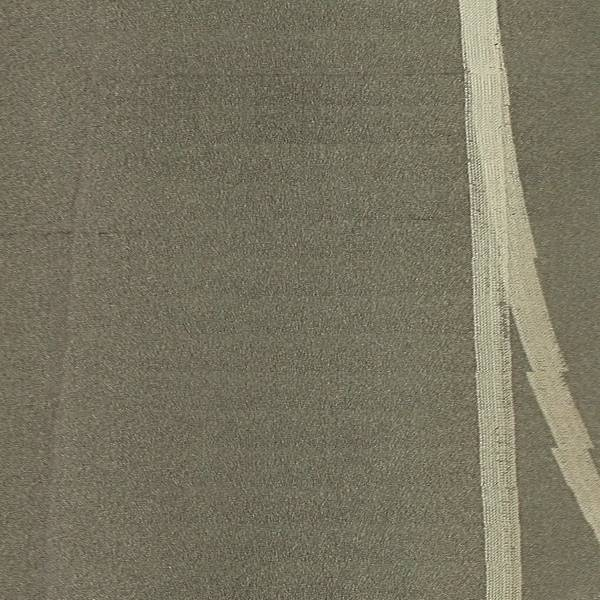road_damage: (136, 67, 459, 85), (18, 228, 130, 242)
